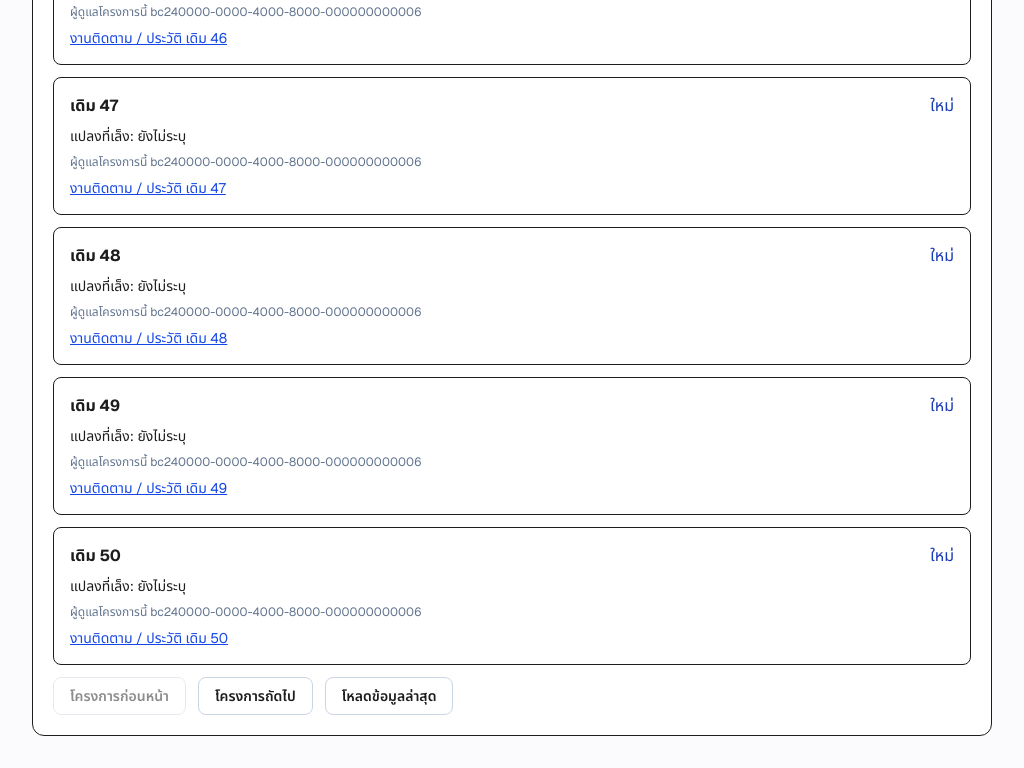
Test: existing Lead project interests workspace › discloses the 200-project cap and pages existing interests without showing stale editable data
(page scrolled)
Click the button "โครงการถัดไป": [255, 696] box [198,677,313,715]
(page scrolled)
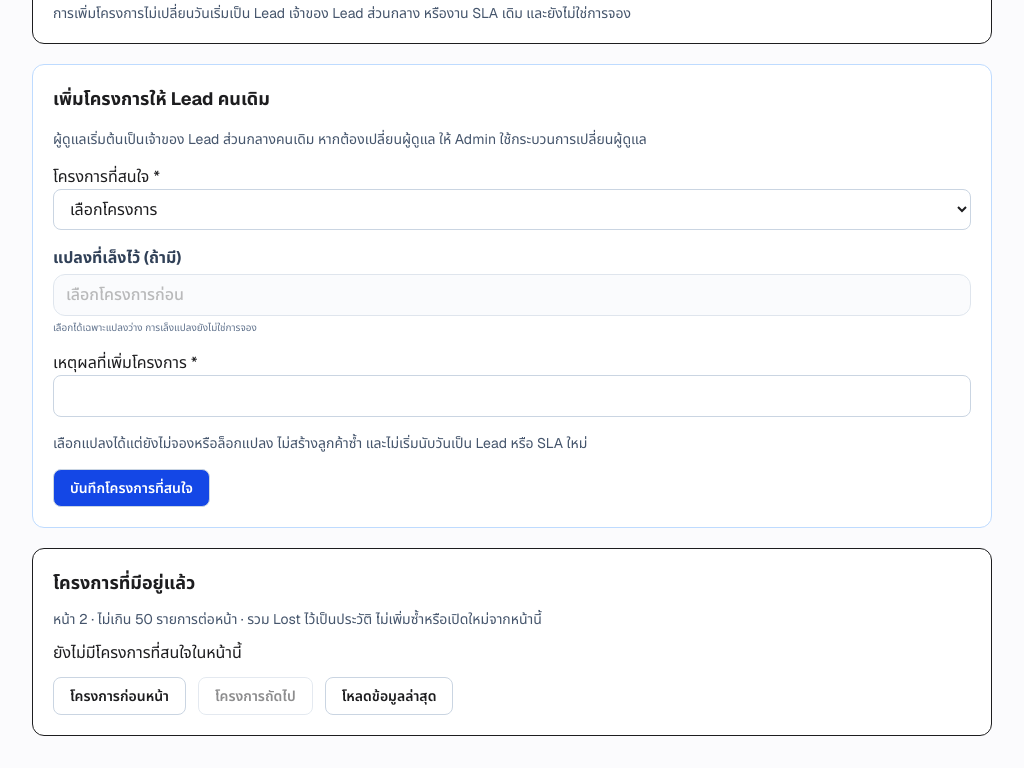
Expected: the text "หน้า 2" is shown, [53,610,542,628]
